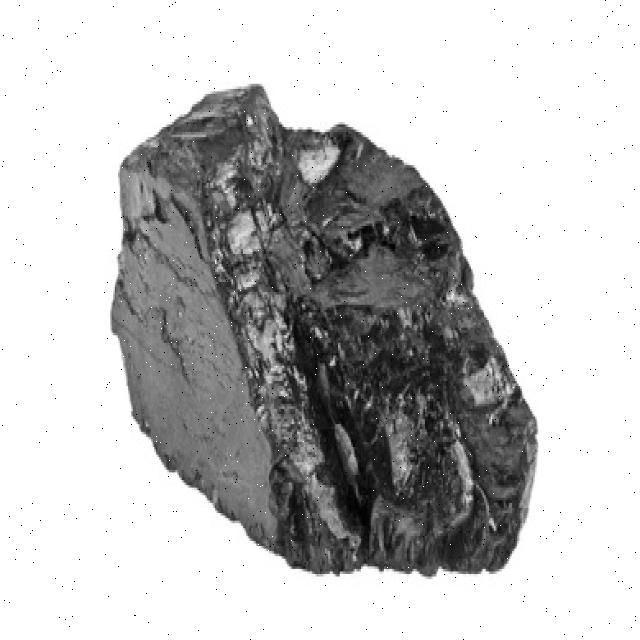Sedimentary: (98, 66, 545, 604)
